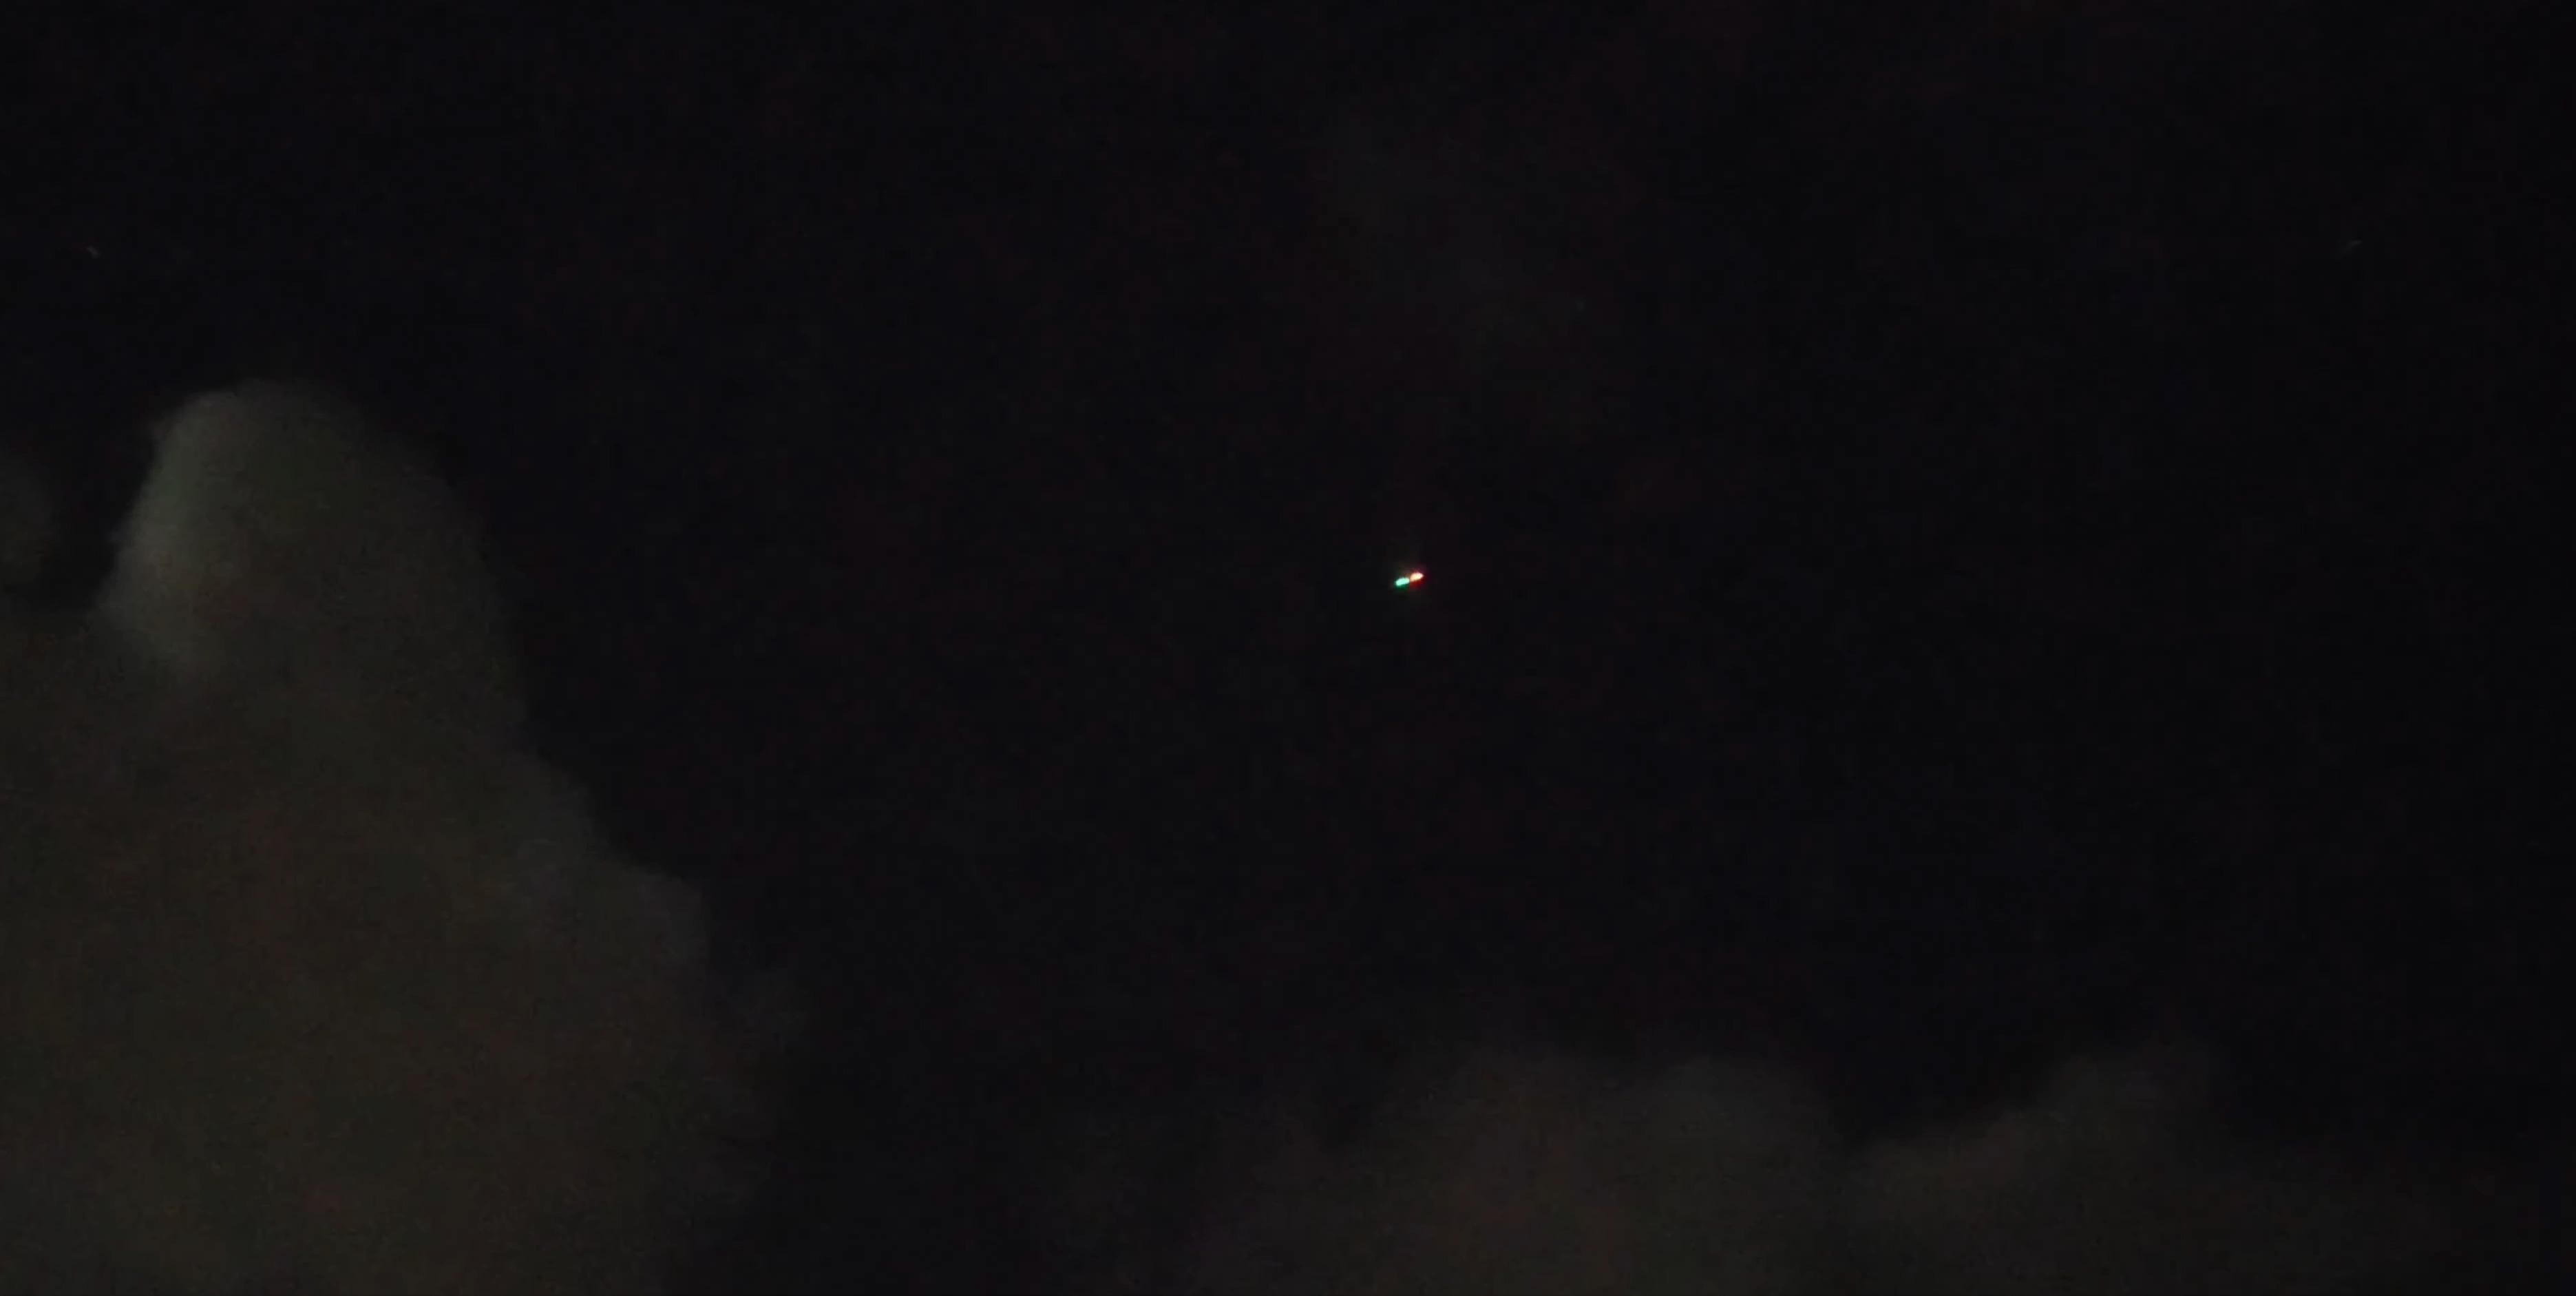Plane: (1340, 547, 1489, 610)
